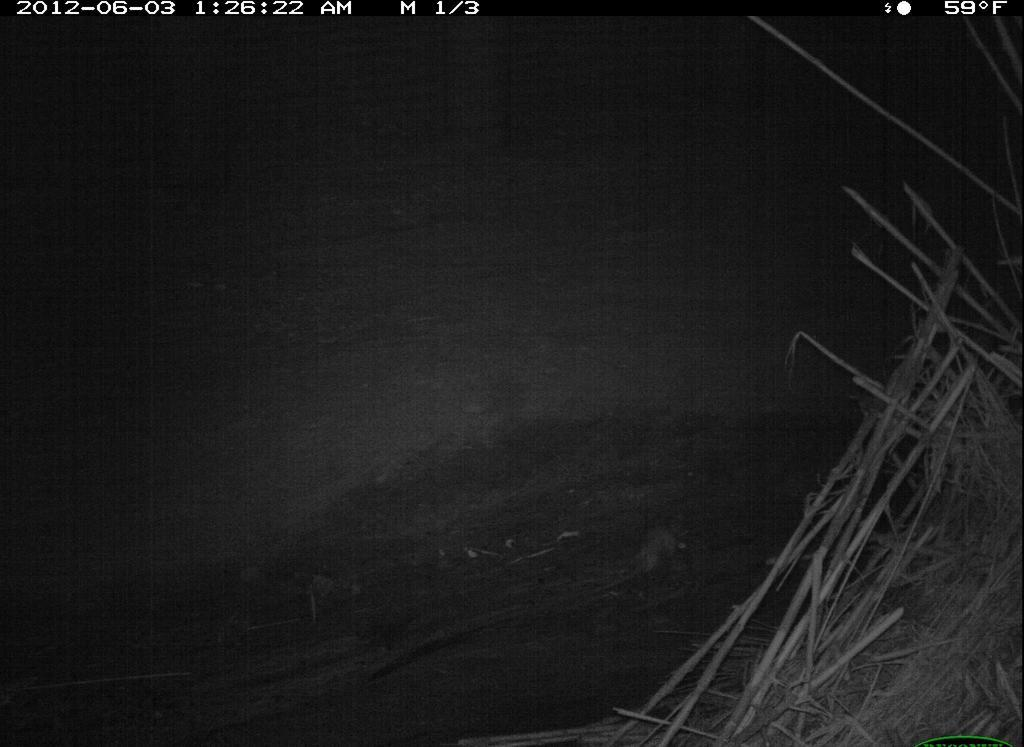opossum: (615, 511, 694, 587)
